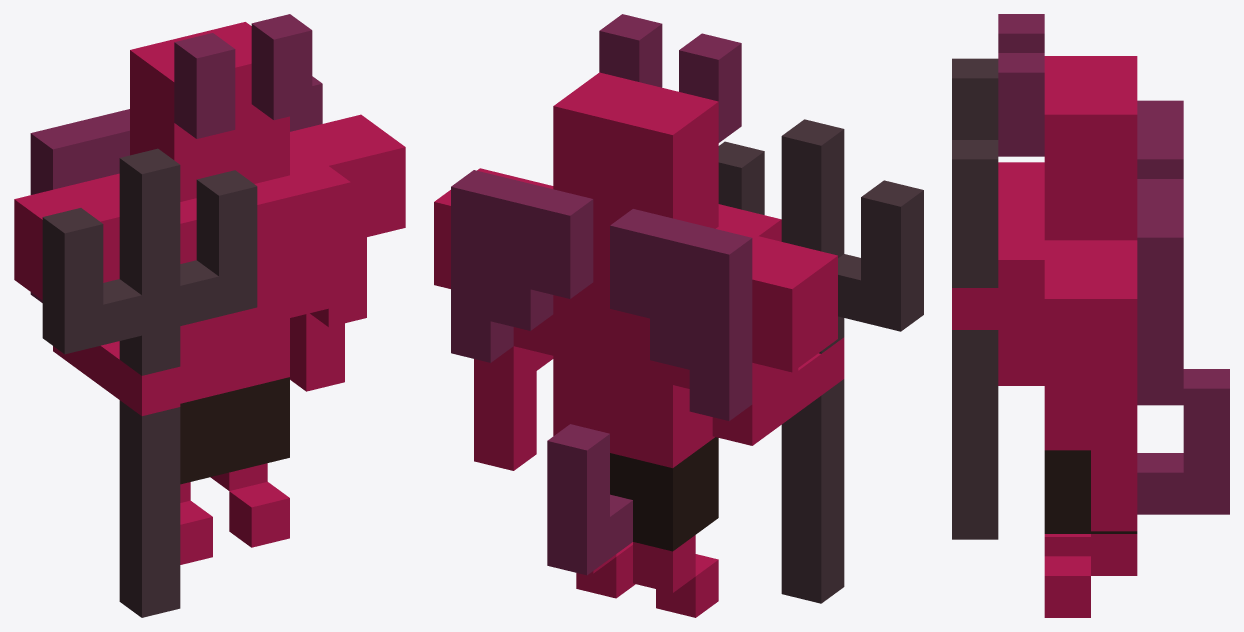
The model's file is devil_idle_0.obj.
3 views of the same model, side by side, from view 1: azimuth 30°, elevation 25°; view 2: azimuth 150°, elevation 25°; view 3: azimuth 270°, elevation 25° (orthographic). The views are drawn at different scales.
Bounding box in the file's own units: 1 × 1.3 × 0.6.
Materials: 1 (1 with a texture image).
